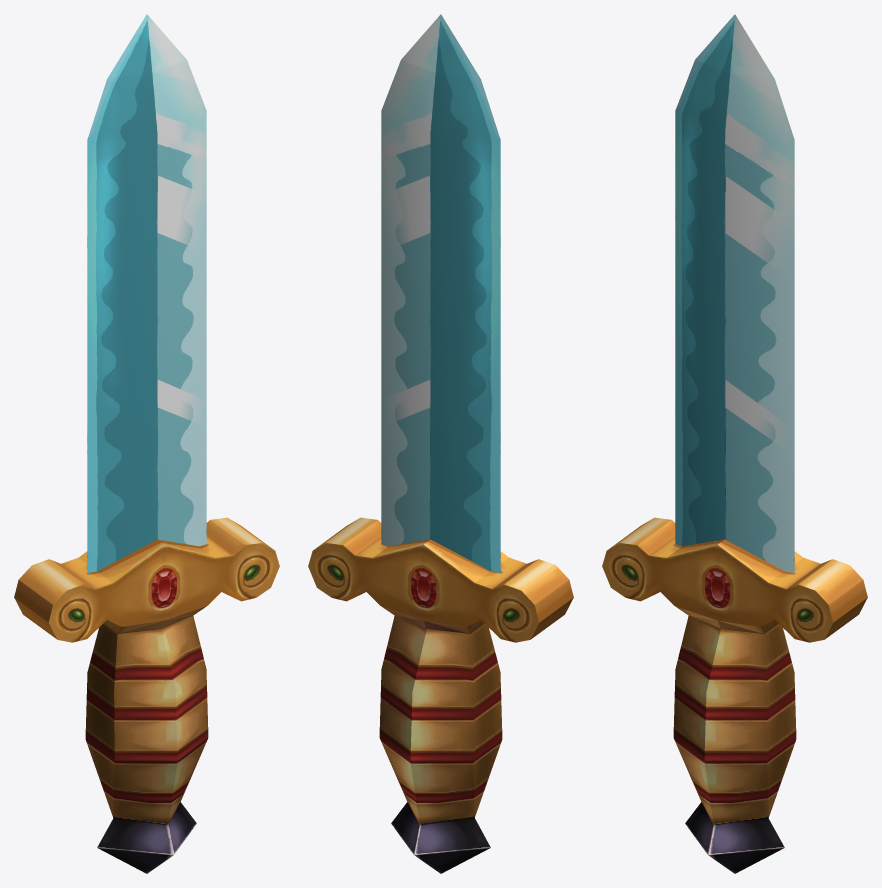
File: LSK_003.fbx
3 views of the same model, side by side, from view 1: azimuth 30°, elevation 25°; view 2: azimuth 150°, elevation 25°; view 3: azimuth 330°, elevation 25° (orthographic).
Visible parts, largest first — view 1: LSK_003; view 2: LSK_003; view 3: LSK_003.
Boxes of the visible parts, <box> form: LSK_003: <box>14,14,279,873</box>; LSK_003: <box>308,14,573,873</box>; LSK_003: <box>602,14,867,873</box>.
Bounding box in the file's own units: 76.72 × 273 × 35.1.
1 material, 1 textured.
